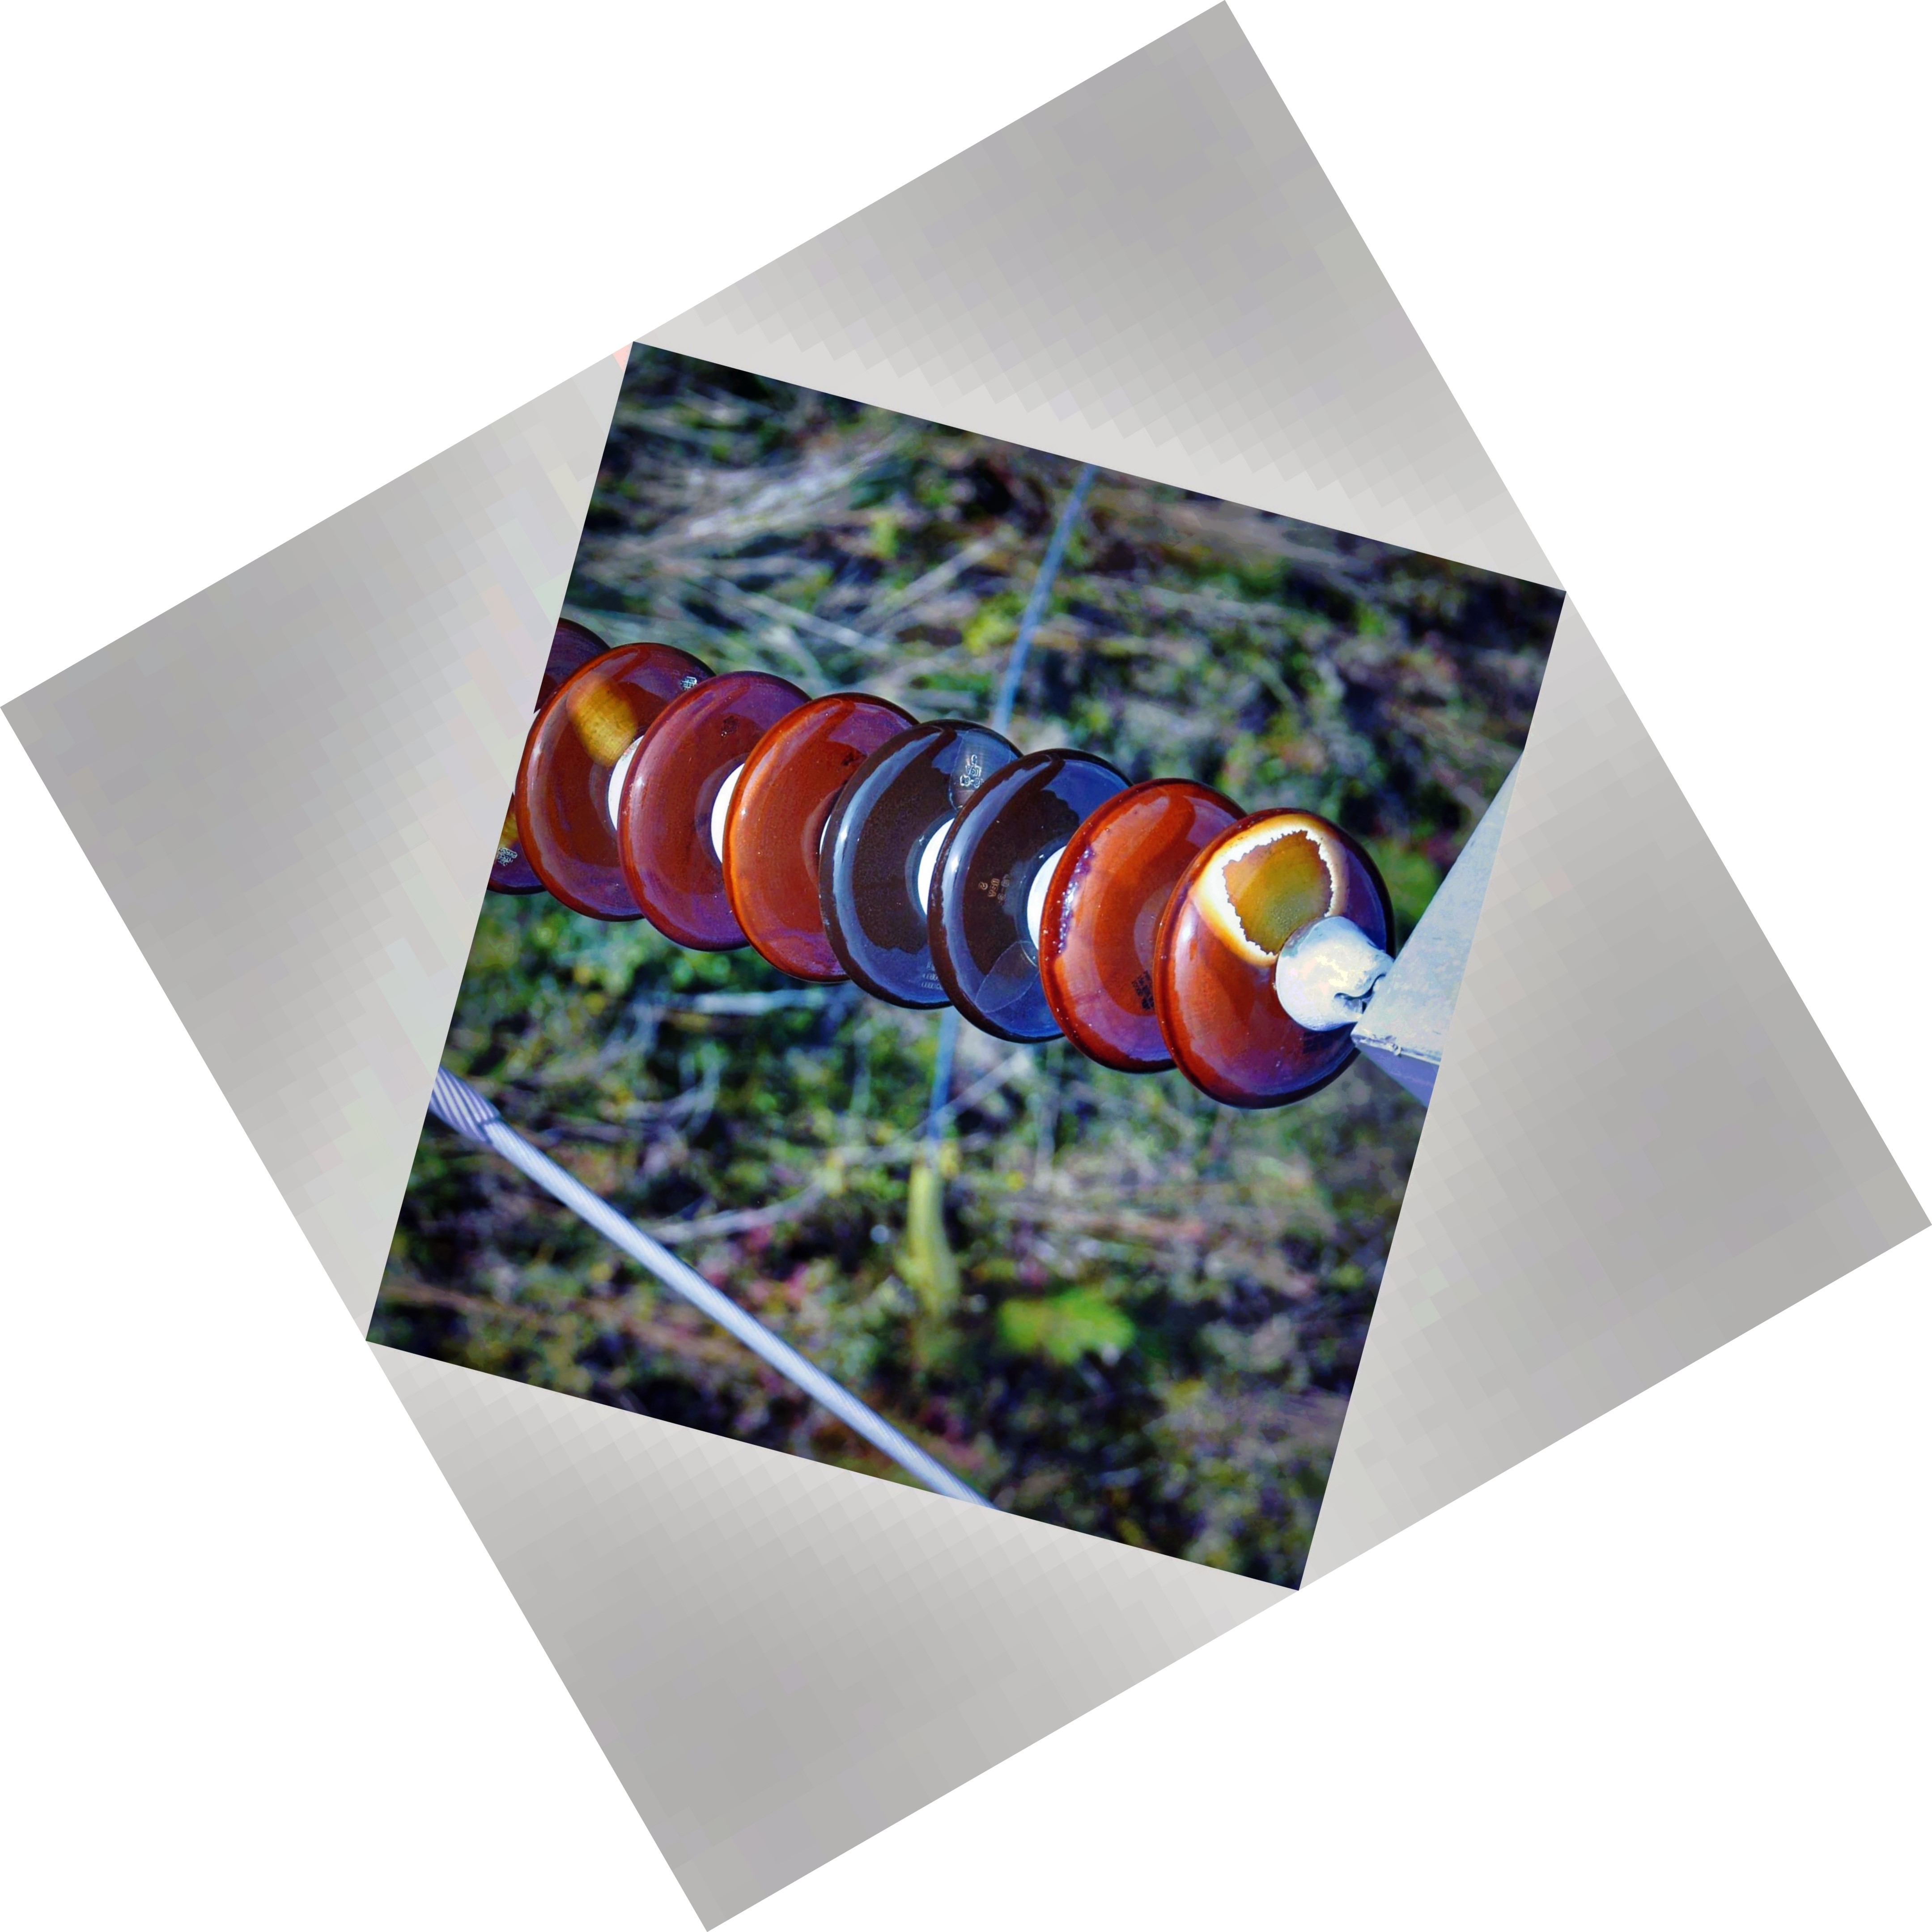Insulator flashover: (1143, 782, 1394, 1120)
